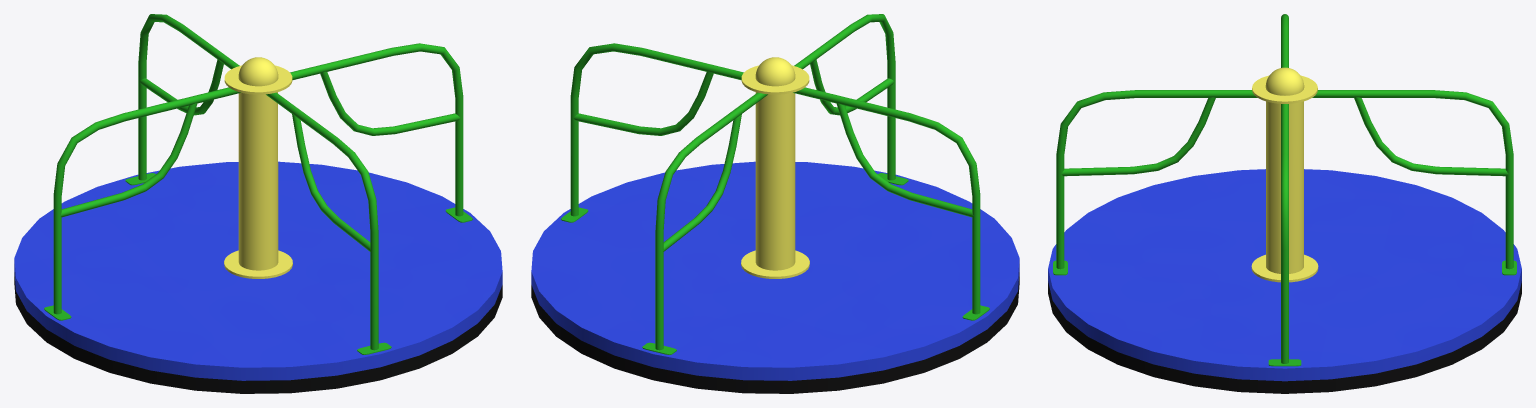
Rendered from carousel.obj.
3 renders of one model, left to right at view 1: azimuth 30°, elevation 25°; view 2: azimuth 150°, elevation 25°; view 3: azimuth 270°, elevation 25°, orthographic. The views are drawn at different scales.
Visible parts, largest first — view 1: carousel__Circle.003; view 2: carousel__Circle.003; view 3: carousel__Circle.003.
Boxes of the visible parts, x1,y1,x2,y2 form: carousel__Circle.003: (14, 14, 502, 393); carousel__Circle.003: (531, 14, 1019, 393); carousel__Circle.003: (1048, 14, 1521, 393).
Size of the model in its own units: 2.43 by 1.27 by 2.43.
